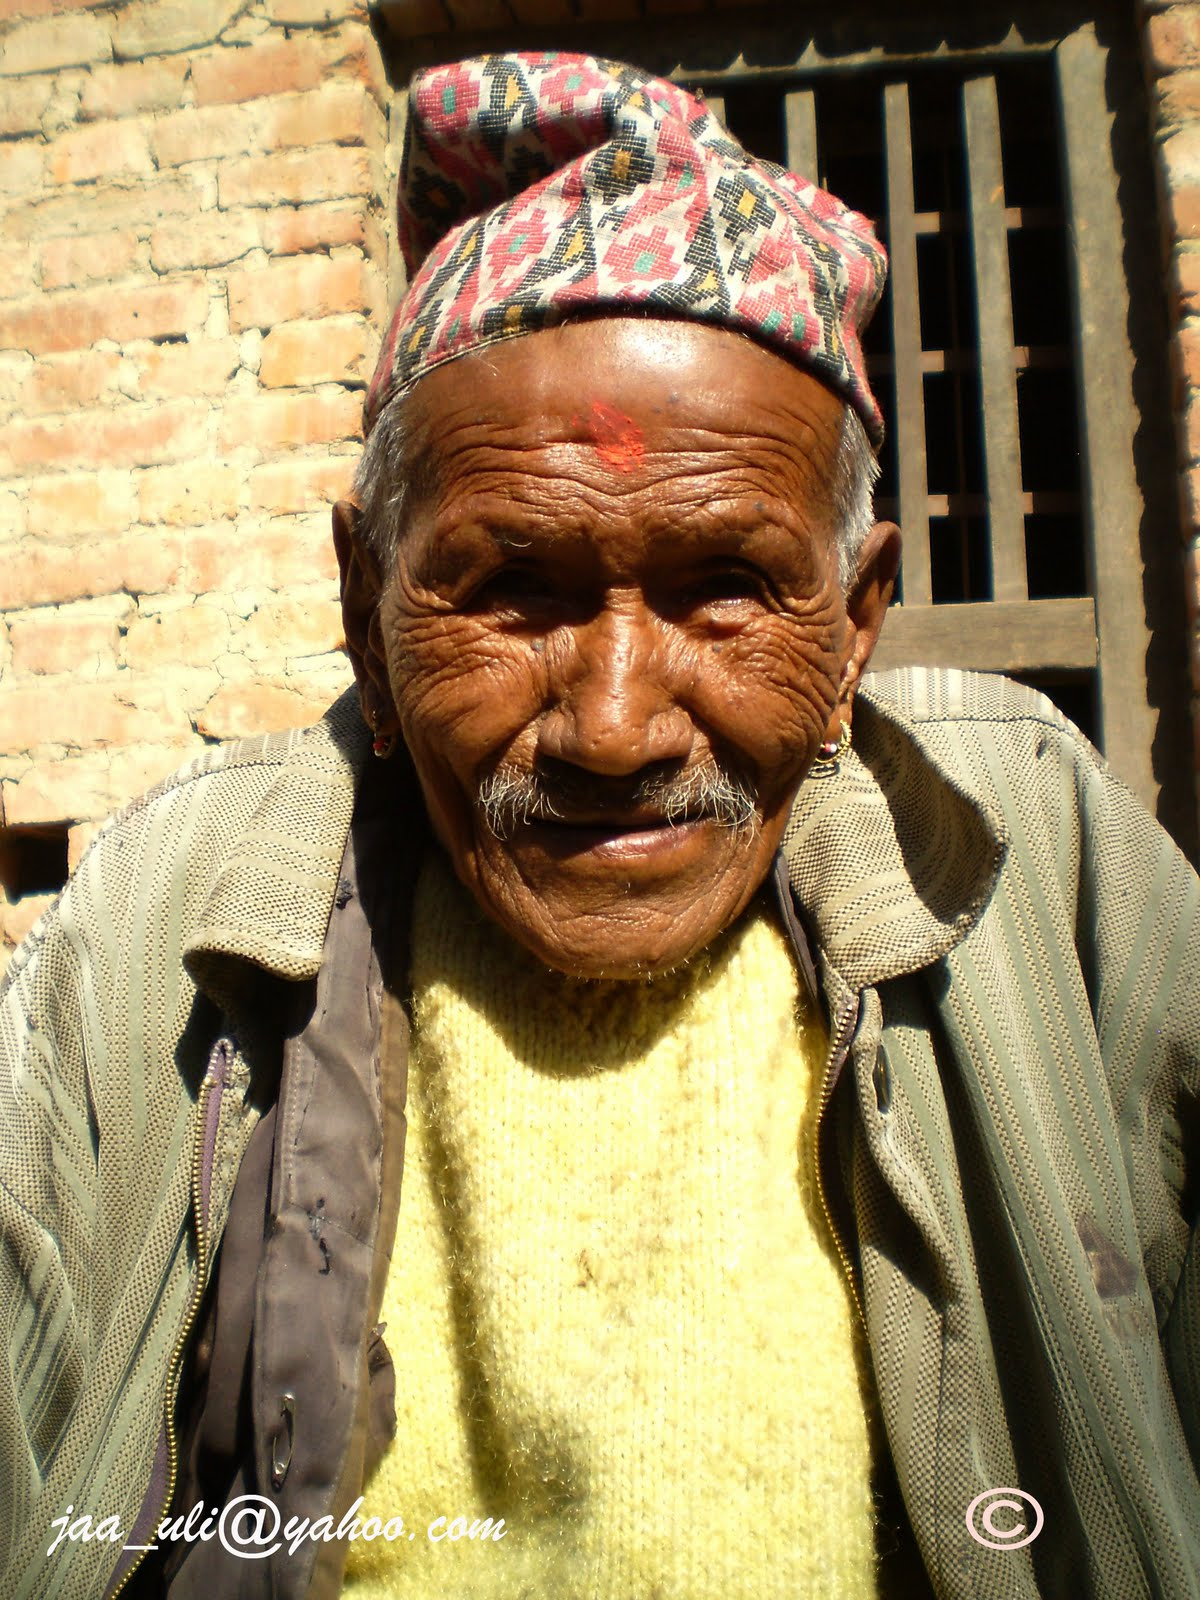human: (8, 48, 1200, 1600)
